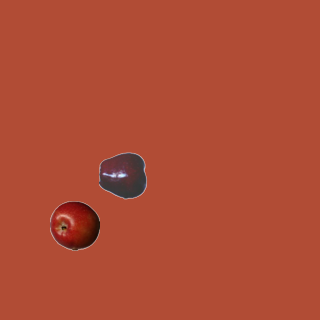Apple Braeburn: (49, 200, 99, 250)
Apple Red Delicious: (98, 150, 148, 200)
